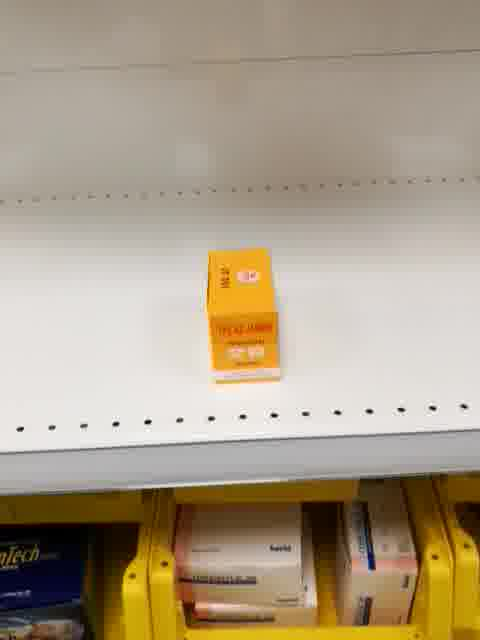jasminetea: (204, 246, 285, 387)
